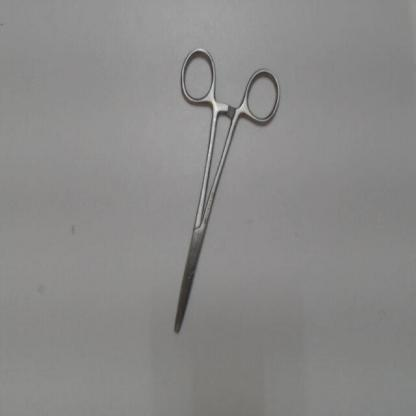Mayo Needle Holder: (162, 41, 286, 350)
